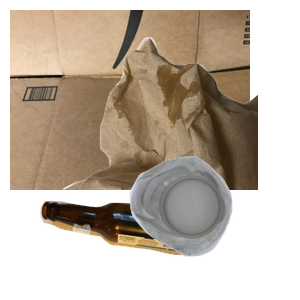cardboard: (10, 10, 250, 190)
glass: (37, 198, 236, 300)
plastic: (127, 154, 300, 300)
trash: (60, 35, 300, 215)
